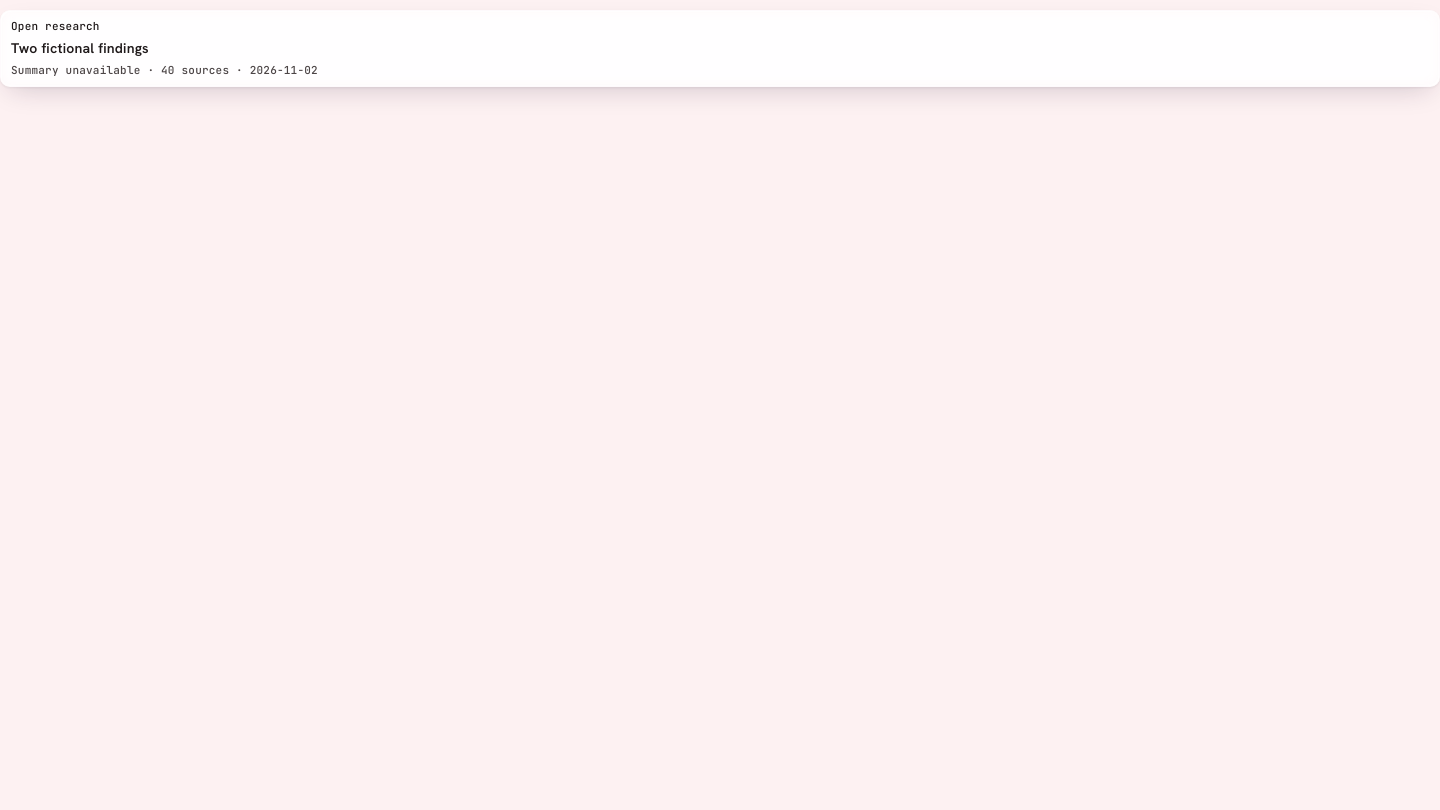
Test: a error short answer keeps the empty-brief fallback report readable without reuse metadata
What coordinates should you click on to do the following:
click the button with aria-label "Open research: Two fictional findings"
I would click on:
 (55, 26)
Its box is left=0, top=10, right=1439, bottom=87.
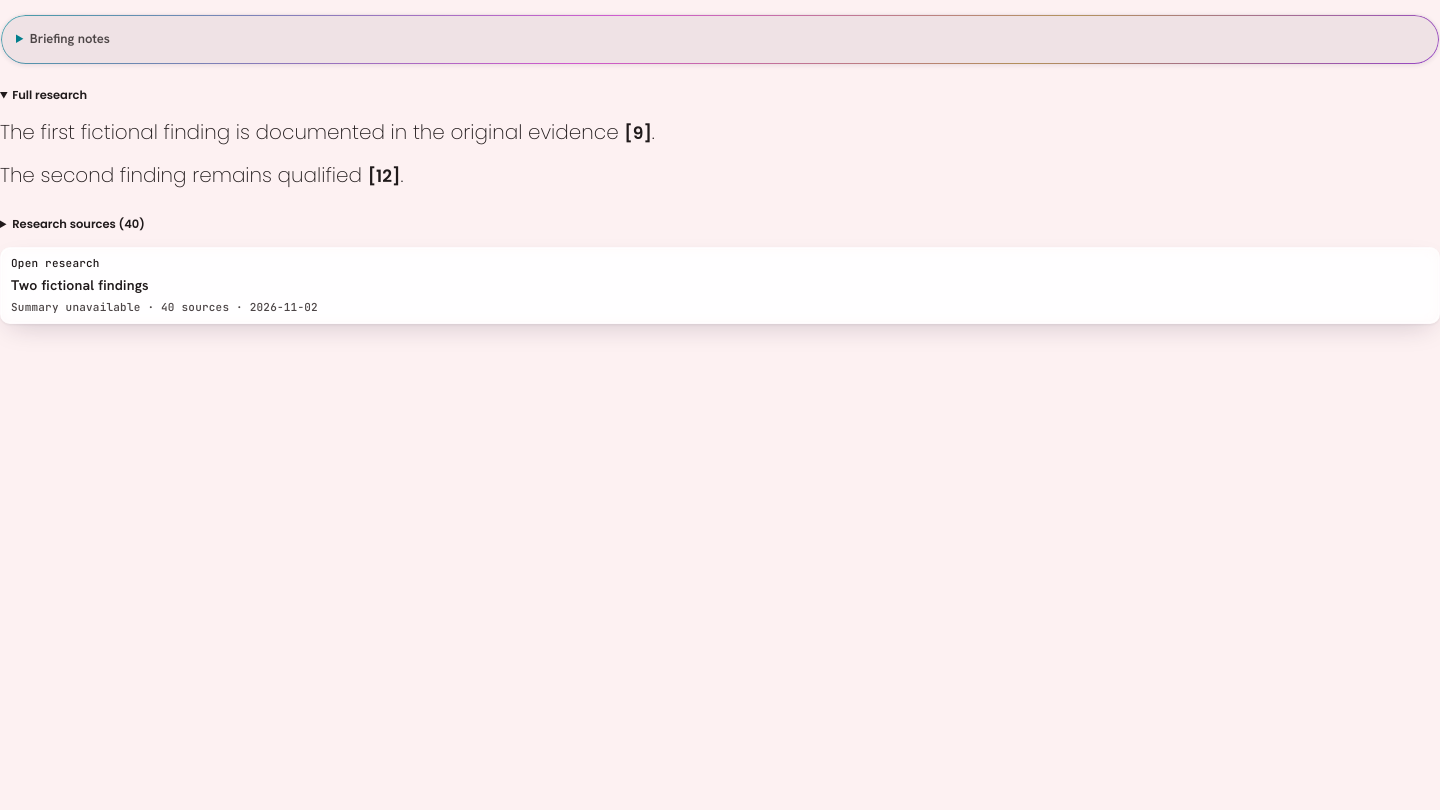
Check: the element named "Completed research" shows "The second finding remains qualified", box left=0, top=161, right=368, bottom=189
